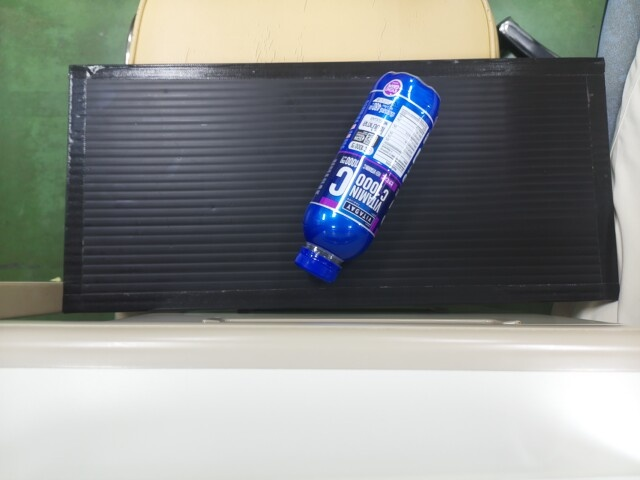plastic_bottle: (305, 68, 441, 274)
